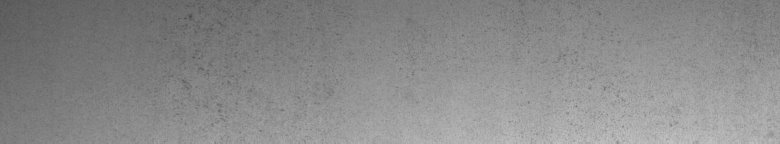ib: (172, 13, 258, 120)
